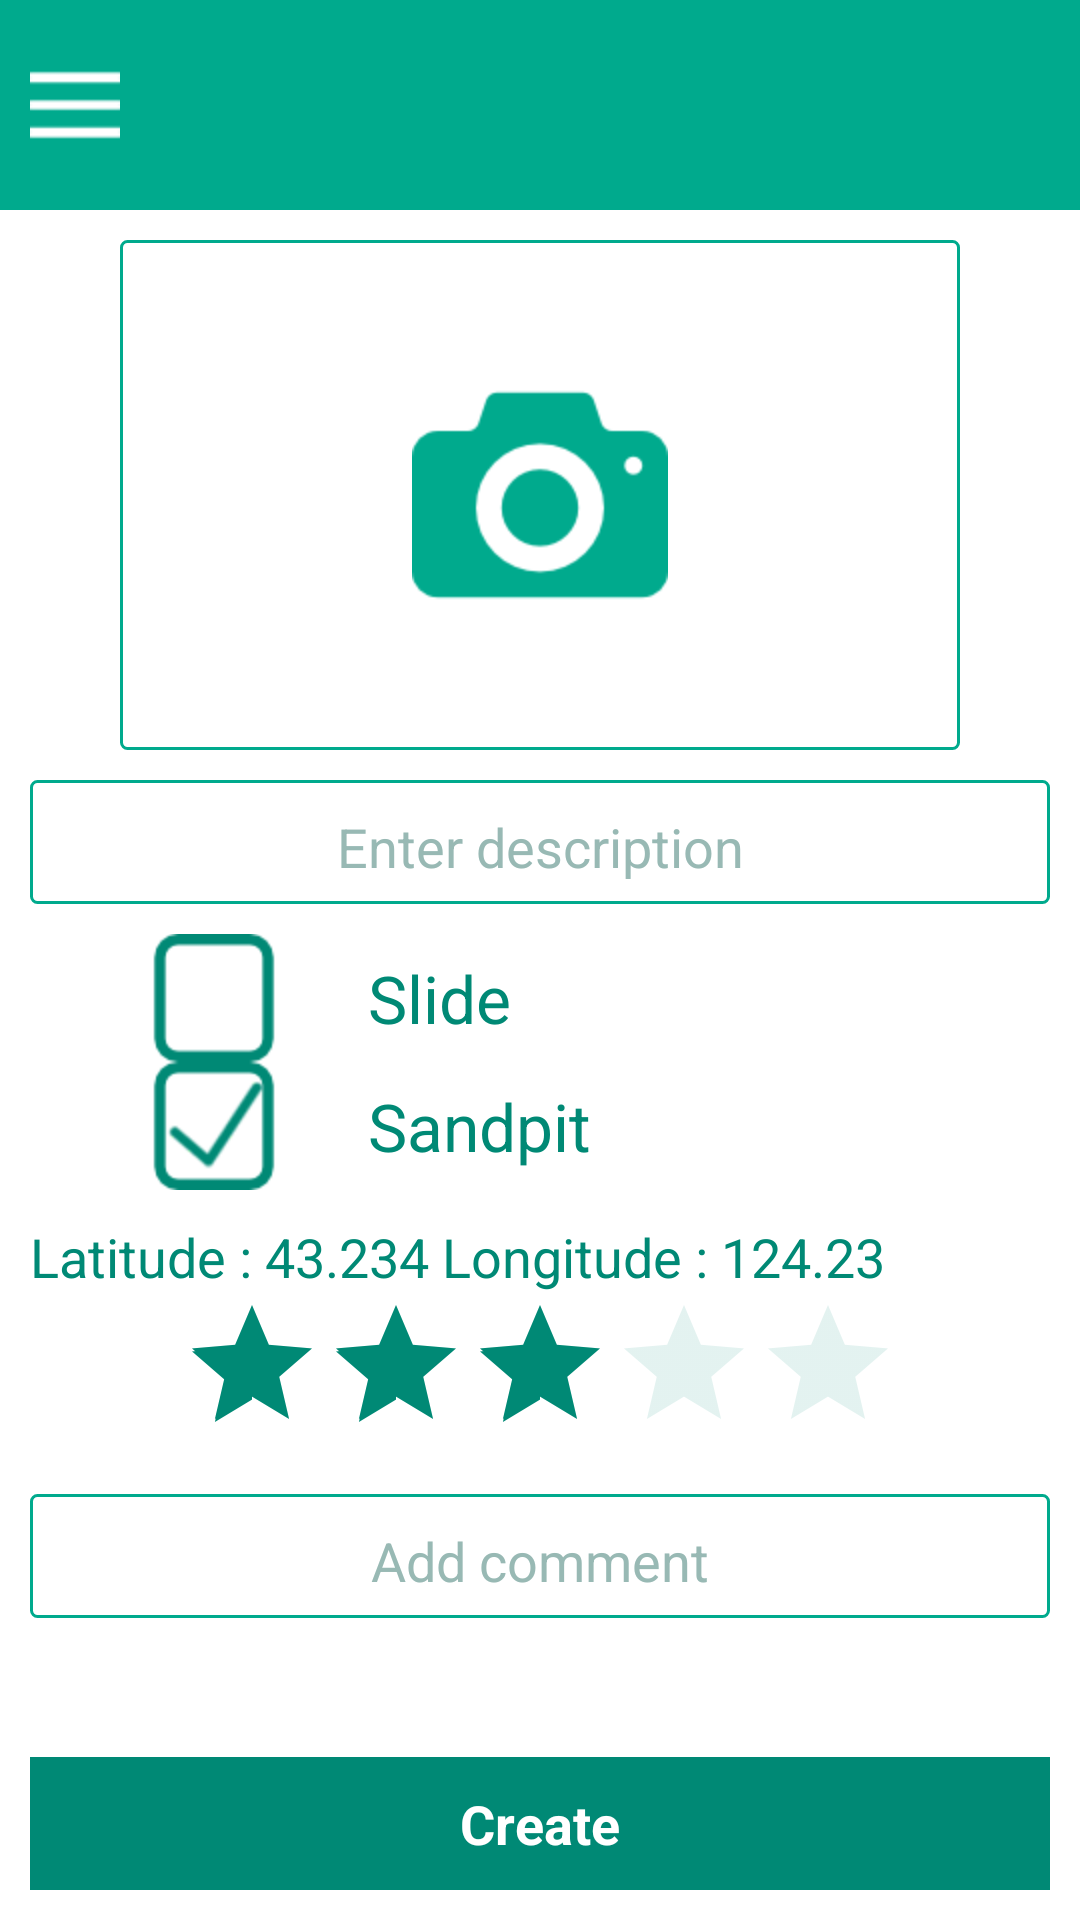

Icons on this 1080px x 1920px Android screen, each with its box as {"x1": x1, "y1": y1, "x2": x2, "y2": y2}:
camera: {"x1": 412, "y1": 391, "x2": 668, "y2": 599}
check: {"x1": 153, "y1": 1062, "x2": 275, "y2": 1190}
menu: {"x1": 30, "y1": 71, "x2": 120, "y2": 139}
uncheck: {"x1": 153, "y1": 934, "x2": 275, "y2": 1062}
